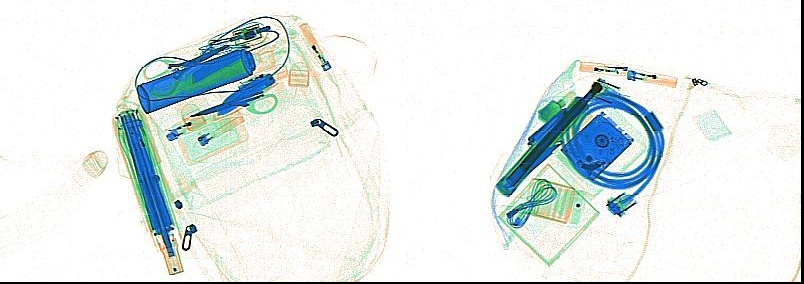knife: (519, 111, 584, 184), (213, 70, 275, 120), (189, 47, 242, 85), (526, 108, 564, 146)
lighter: (298, 22, 330, 70), (239, 63, 287, 94), (198, 113, 244, 145), (163, 111, 205, 141), (625, 68, 675, 88), (578, 60, 628, 75)
nailpolish: (537, 91, 575, 123)
pressure: (135, 35, 274, 114)
scissors: (142, 43, 228, 99), (189, 73, 277, 117)
